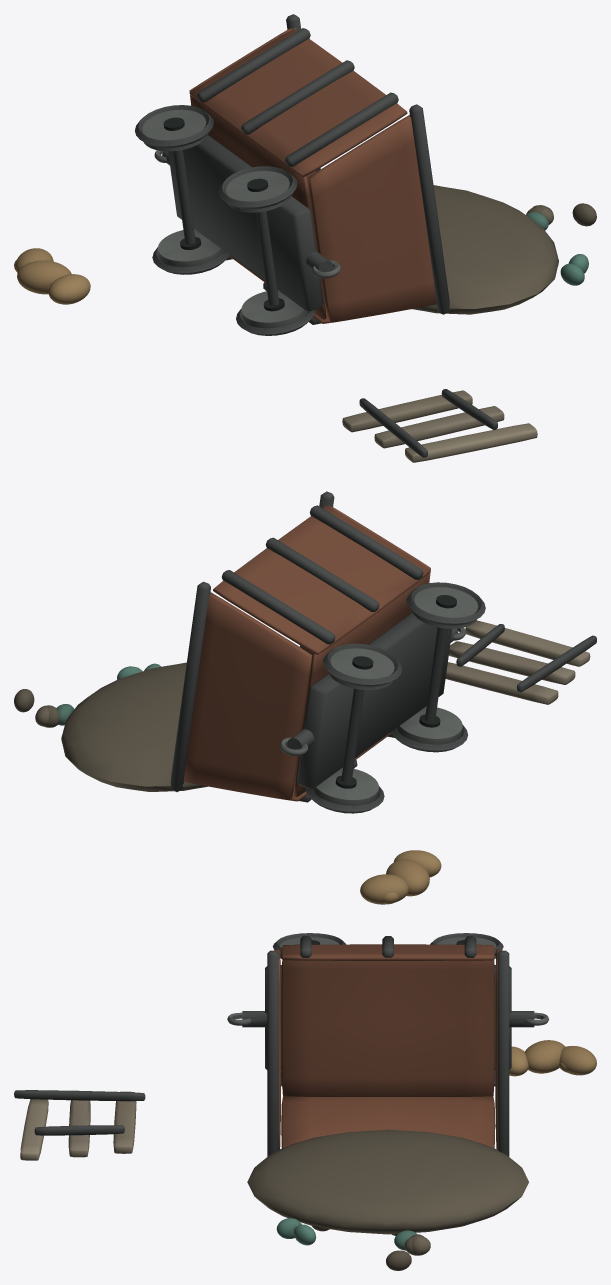
The model's file is tram_bogie_a.glb.
3 renders of one model, top to bottom at view 1: azimuth 30°, elevation 25°; view 2: azimuth 150°, elevation 25°; view 3: azimuth 270°, elevation 25°, orthographic. The views are drawn at different scales.
Parts seen in each view (by area): view 1: Surface; view 2: Surface; view 3: Surface.
Part boxes in pixels (box(x1,y1,x2,y2)): Surface: box(14, 14, 596, 462); Surface: box(14, 491, 596, 904); Surface: box(14, 933, 596, 1270).
Bounding box in the file's own units: 6.46 × 2.99 × 7.09.
